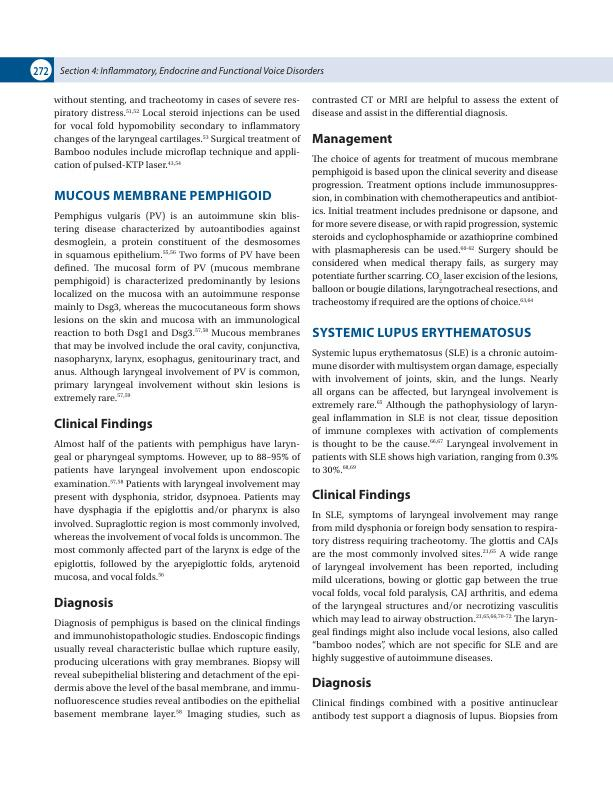header: (59, 65, 324, 76)
section-heading: (312, 326, 532, 338), (54, 189, 272, 201)
sub-section-heading: (53, 416, 154, 432), (311, 487, 411, 503), (311, 132, 394, 148), (311, 675, 373, 691), (54, 596, 114, 611)
text: (51, 207, 302, 404), (311, 509, 559, 665), (311, 154, 558, 308), (52, 437, 303, 583), (311, 347, 560, 475), (52, 616, 301, 721), (53, 95, 302, 172), (311, 697, 559, 723), (310, 95, 560, 120)
